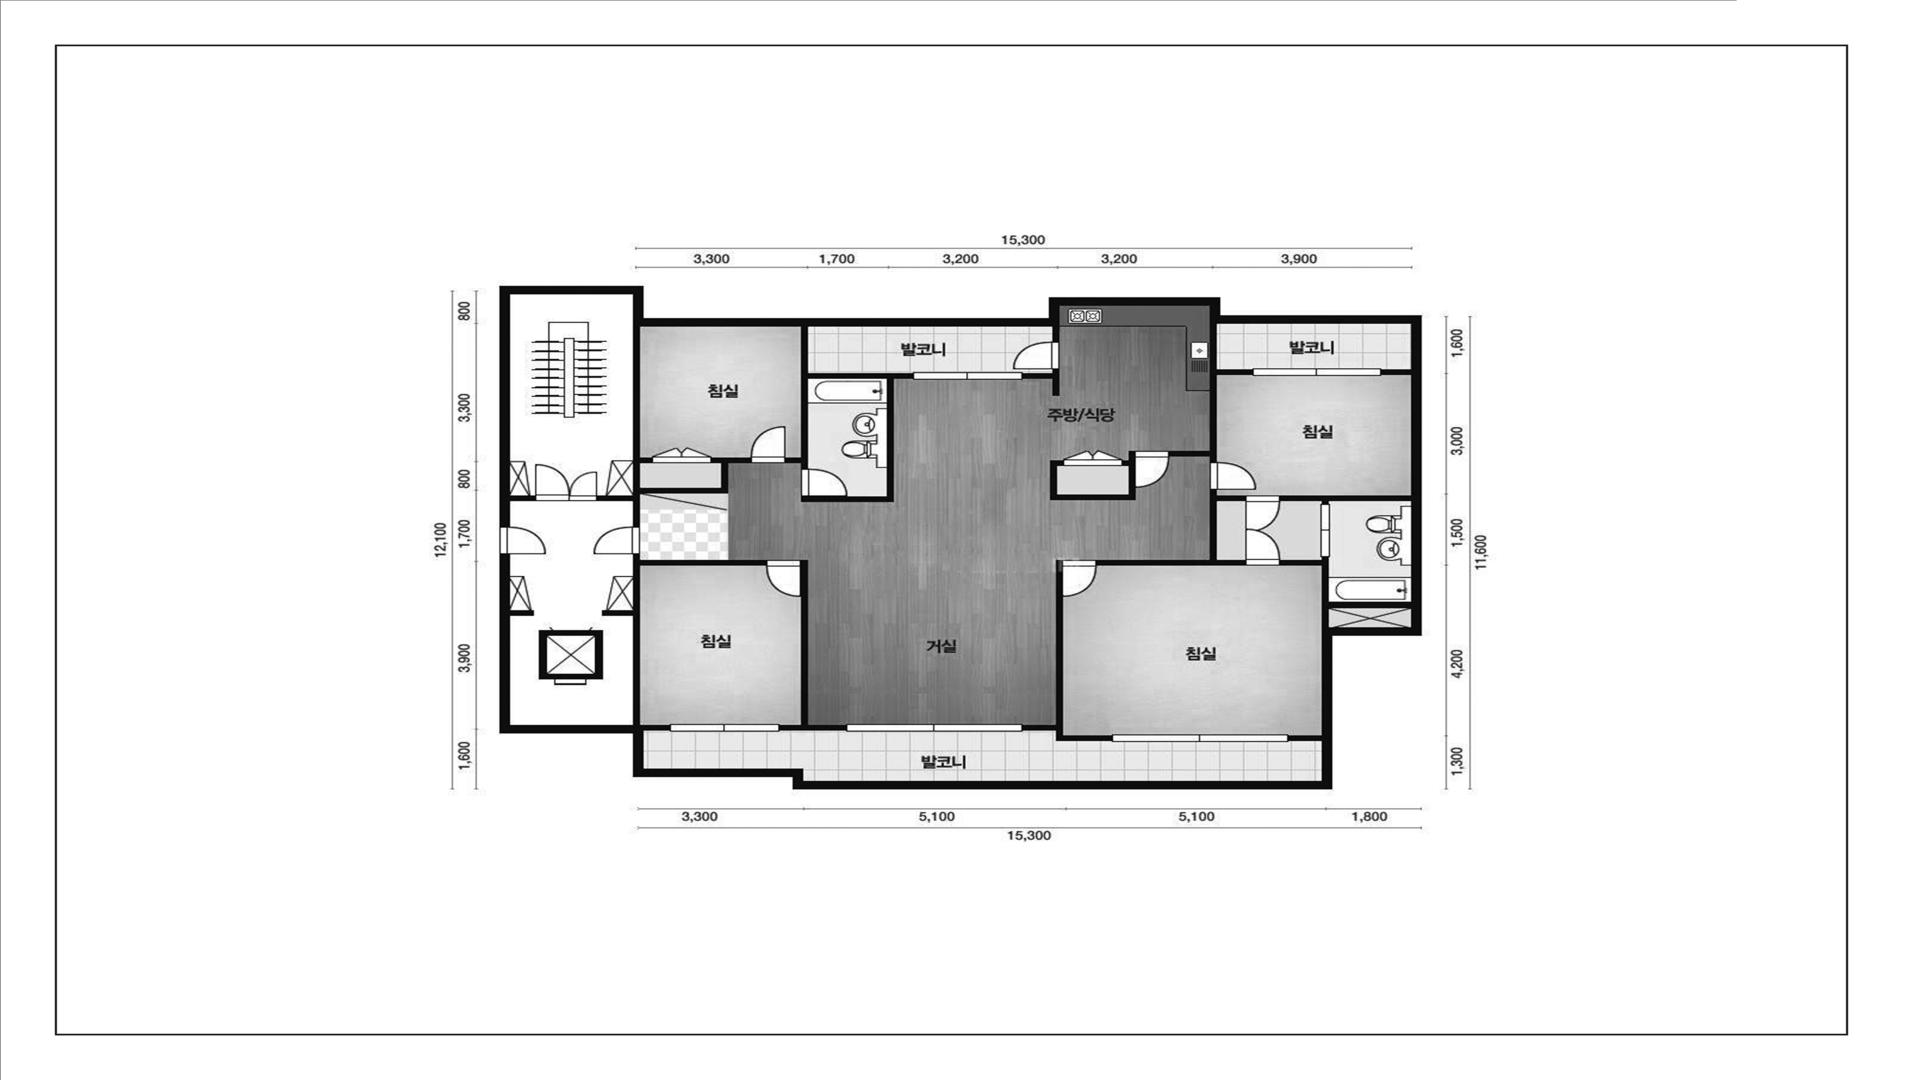background: (1, 0, 1920, 1075)
door: (535, 463, 598, 501), (1245, 528, 1281, 566), (499, 526, 546, 555), (1209, 462, 1257, 490), (750, 426, 786, 463), (1013, 341, 1060, 369), (593, 526, 640, 554), (801, 469, 848, 496), (1245, 495, 1280, 531), (1063, 560, 1097, 597), (766, 560, 800, 597), (1136, 451, 1169, 488), (1320, 504, 1330, 557)
wall: (499, 286, 1422, 789), (598, 327, 750, 526), (602, 554, 766, 725), (786, 327, 914, 502), (1023, 560, 1112, 741), (1170, 324, 1253, 462), (1097, 490, 1245, 566), (780, 560, 846, 730), (1281, 557, 1411, 627), (1050, 451, 1136, 500), (1280, 495, 1411, 504), (1023, 369, 1059, 396), (1289, 735, 1321, 741), (1382, 369, 1411, 375), (643, 725, 670, 731), (510, 610, 534, 616), (511, 496, 535, 501), (1053, 326, 1059, 341)
window: (1113, 734, 1288, 742), (847, 724, 1022, 732), (1253, 368, 1382, 376), (670, 724, 780, 732), (914, 372, 1023, 380)
